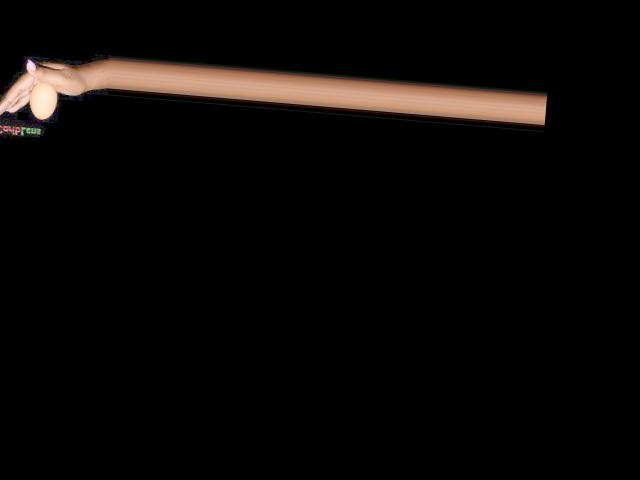egg: (28, 81, 59, 120)
